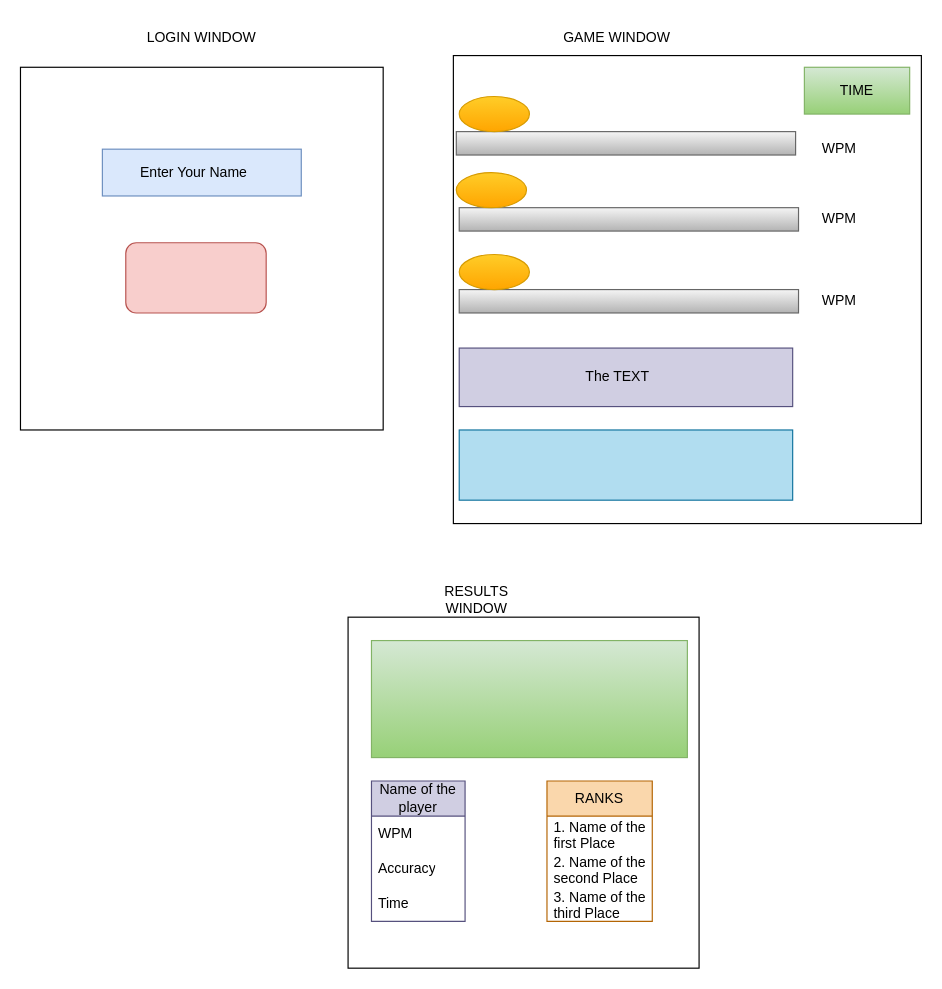
Some shapes in this 942 by 989 pixel diagram are drawn without their labels. The shapes that lost their labels are listed below. From the top down, each one's centre as x and y in pixels, then its label:
At point 195,277: "Join new game".
At point 625,464: "WHERE PLAYER WILL WRITE".
At point 528,698: "THIS will be the last state of the Game Window".
